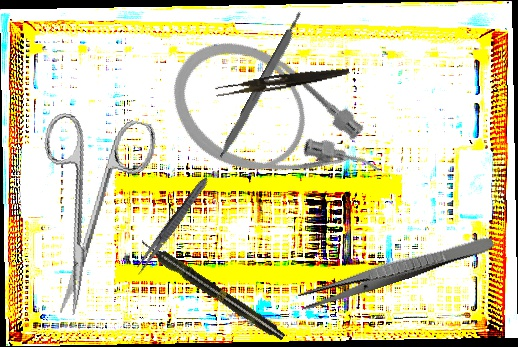Cannula: (148, 16, 402, 237)
Dressing Forceps: (296, 229, 496, 313), (132, 173, 212, 278), (214, 61, 351, 102)
Handpiece: (137, 235, 288, 344)
Iris Scissors: (9, 103, 160, 325)
Scalpel Handle: (216, 10, 308, 161)
